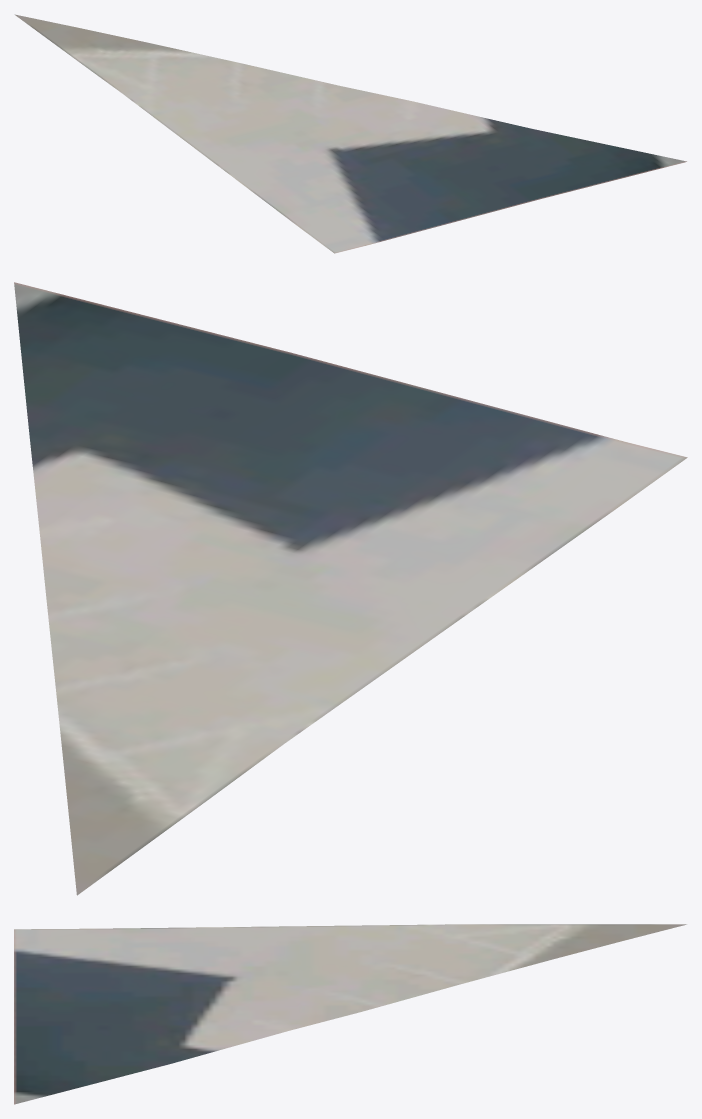
File: CM_Terrain_24492097_6819589.fbx
3 renders of one model, top to bottom at view 1: azimuth 30°, elevation 25°; view 2: azimuth 150°, elevation 25°; view 3: azimuth 270°, elevation 25°, orthographic. The views are drawn at different scales.
Parts seen in each view (by area): view 1: CM_Terrain_24492097_6819589_LOD0; view 2: CM_Terrain_24492097_6819589_LOD0; view 3: CM_Terrain_24492097_6819589_LOD0.
Part boxes in pixels (x1,y1,x2,y2): CM_Terrain_24492097_6819589_LOD0: (14, 14, 686, 253); CM_Terrain_24492097_6819589_LOD0: (14, 282, 687, 895); CM_Terrain_24492097_6819589_LOD0: (14, 924, 686, 1104).
Size of what is drawn, in the model's own units: 14.36 by 0.2276 by 22.56.
